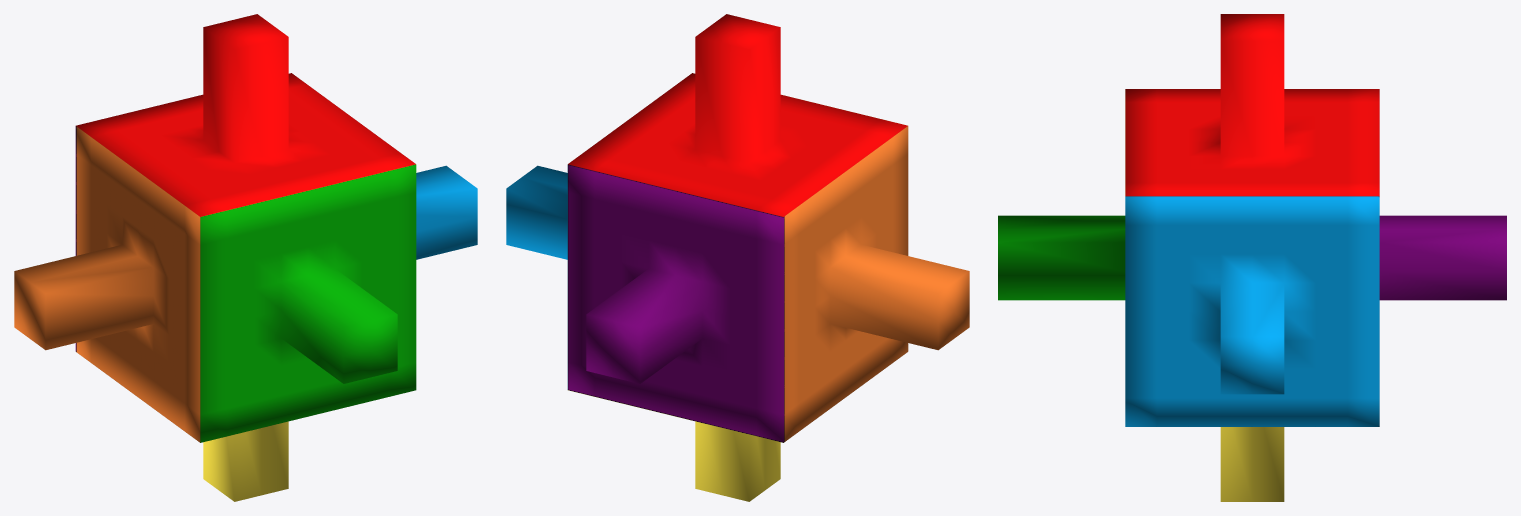
The model's file is Atom-Animated.glb.
3 renders of one model, left to right at view 1: azimuth 30°, elevation 25°; view 2: azimuth 150°, elevation 25°; view 3: azimuth 270°, elevation 25°, orthographic. The views are drawn at different scales.
Visible parts, largest first — view 1: Cube.001; view 2: Cube.001; view 3: Cube.001.
Part boxes in pixels (x1,y1,x2,y2): Cube.001: (14,14,477,501); Cube.001: (506,14,969,501); Cube.001: (998,14,1506,501).
Size of the model in its own units: 4 by 4 by 4.
1 material, 1 textured.
